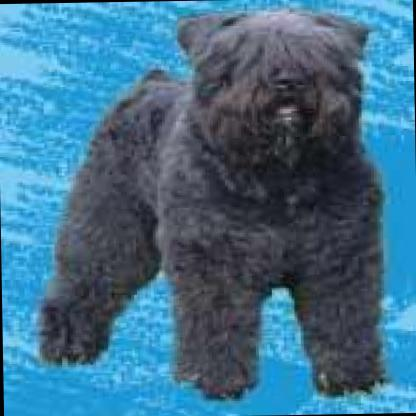Bouvier_des_Flandres: (25, 1, 392, 406)
